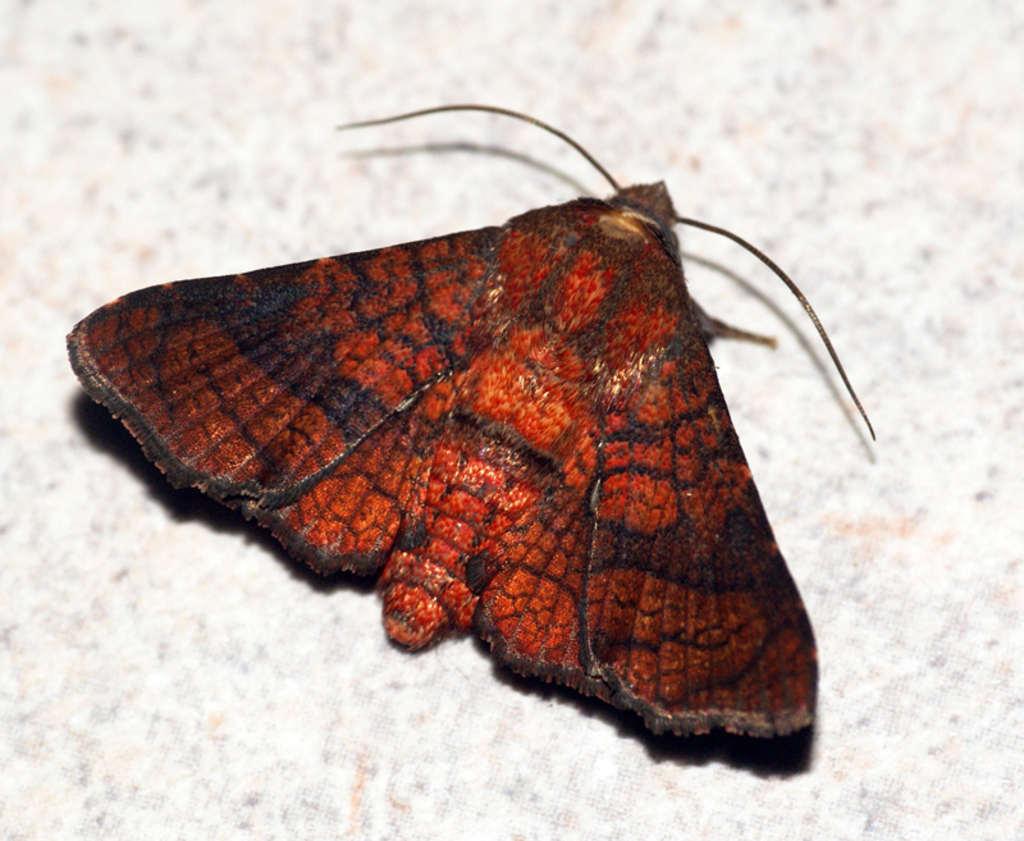Butterfly: (56, 180, 839, 754)
